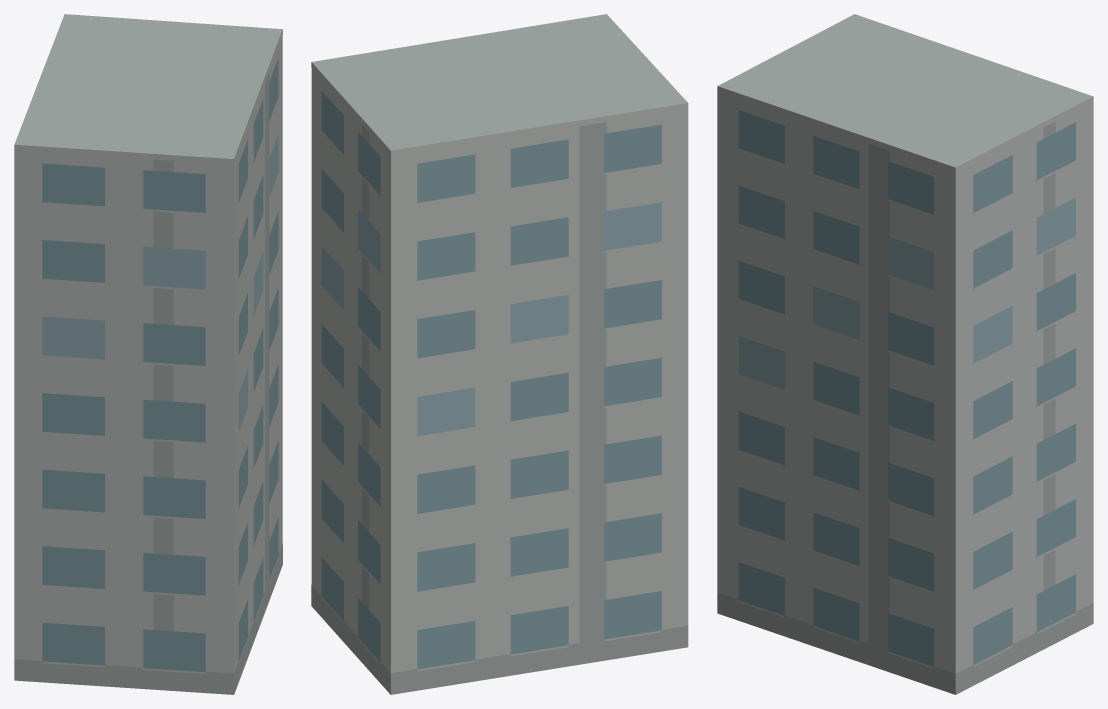
File: survey-upis-32561099.glb
The picture shows the model from 3 angles, left to right: view 1: azimuth 30°, elevation 25°; view 2: azimuth 150°, elevation 25°; view 3: azimuth 270°, elevation 25°; orthographic projection. The views are drawn at different scales.
Visible parts, largest first — view 1: survey-upis-32561099.tmp; view 2: survey-upis-32561099.tmp; view 3: survey-upis-32561099.tmp.
Boxes of the visible parts, bbox=[...] form: survey-upis-32561099.tmp: bbox=[14, 14, 282, 694]; survey-upis-32561099.tmp: bbox=[311, 14, 688, 694]; survey-upis-32561099.tmp: bbox=[717, 14, 1093, 694].
Size of the model in its own units: 14.18 by 22.7 by 14.68.
